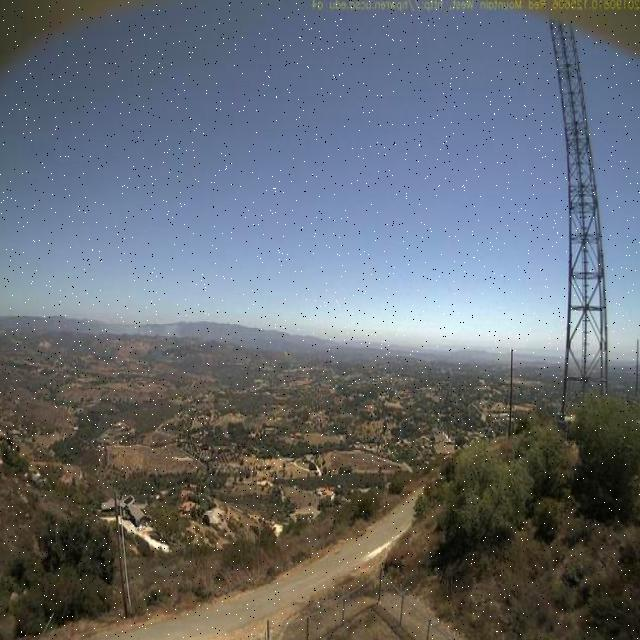smoke: (84, 300, 191, 339)
